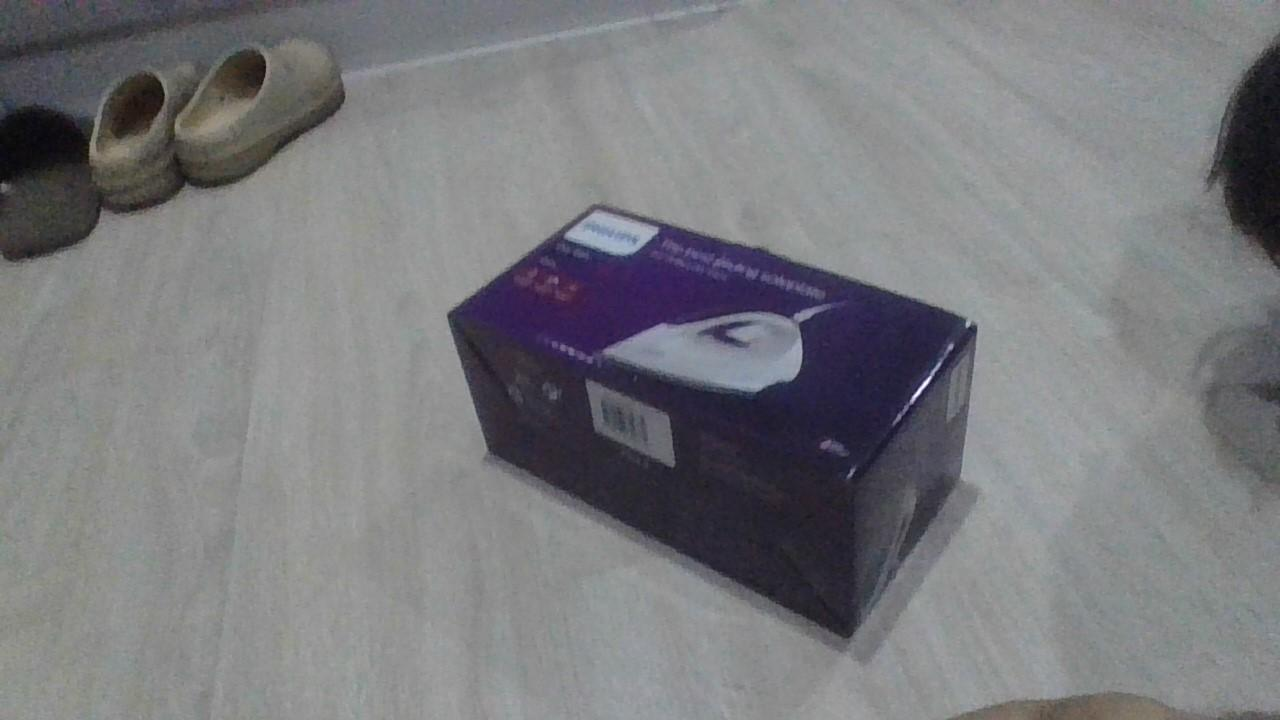IRON: (442, 198, 983, 645)
